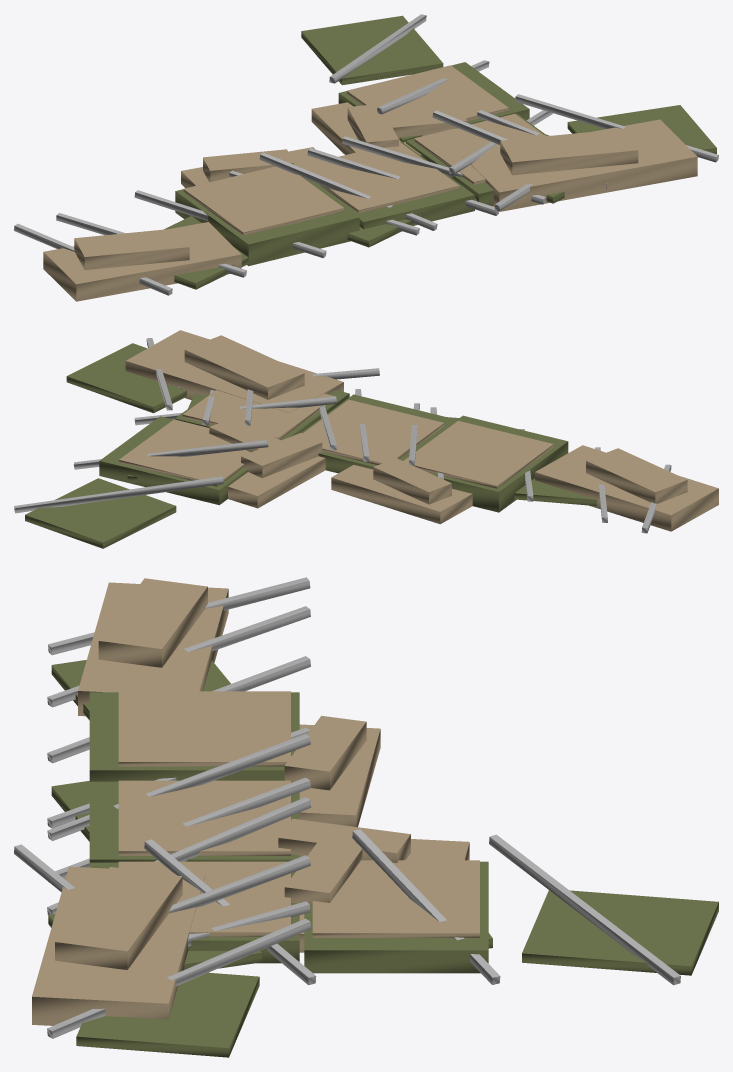
Rendered from SM_HescoRemateEspejo_v2_Escalonado_e3_Brecha_LOD0.fbx.
3 renders of one model, top to bottom at view 1: azimuth 30°, elevation 25°; view 2: azimuth 150°, elevation 25°; view 3: azimuth 270°, elevation 25°, orthographic. The views are drawn at different scales.
Parts seen in each view (by area): view 1: SM_hesco_piezas_v31_LOD0; view 2: SM_hesco_piezas_v31_LOD0; view 3: SM_hesco_piezas_v31_LOD0.
Part boxes in pixels (x1=…): SM_hesco_piezas_v31_LOD0: x1=14, y1=14, x2=718, y2=301; SM_hesco_piezas_v31_LOD0: x1=14, y1=330, x2=718, y2=548; SM_hesco_piezas_v31_LOD0: x1=14, y1=577, x2=718, y2=1057.
Bounding box in the file's own units: 6.23 × 0.3263 × 4.09.
